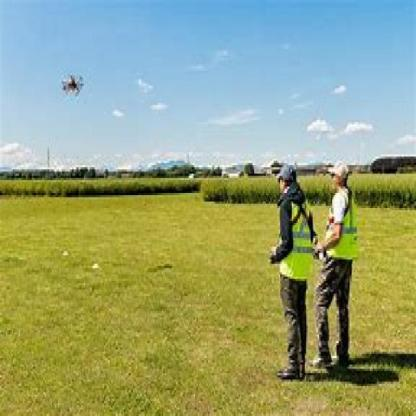drone: (57, 66, 89, 101)
